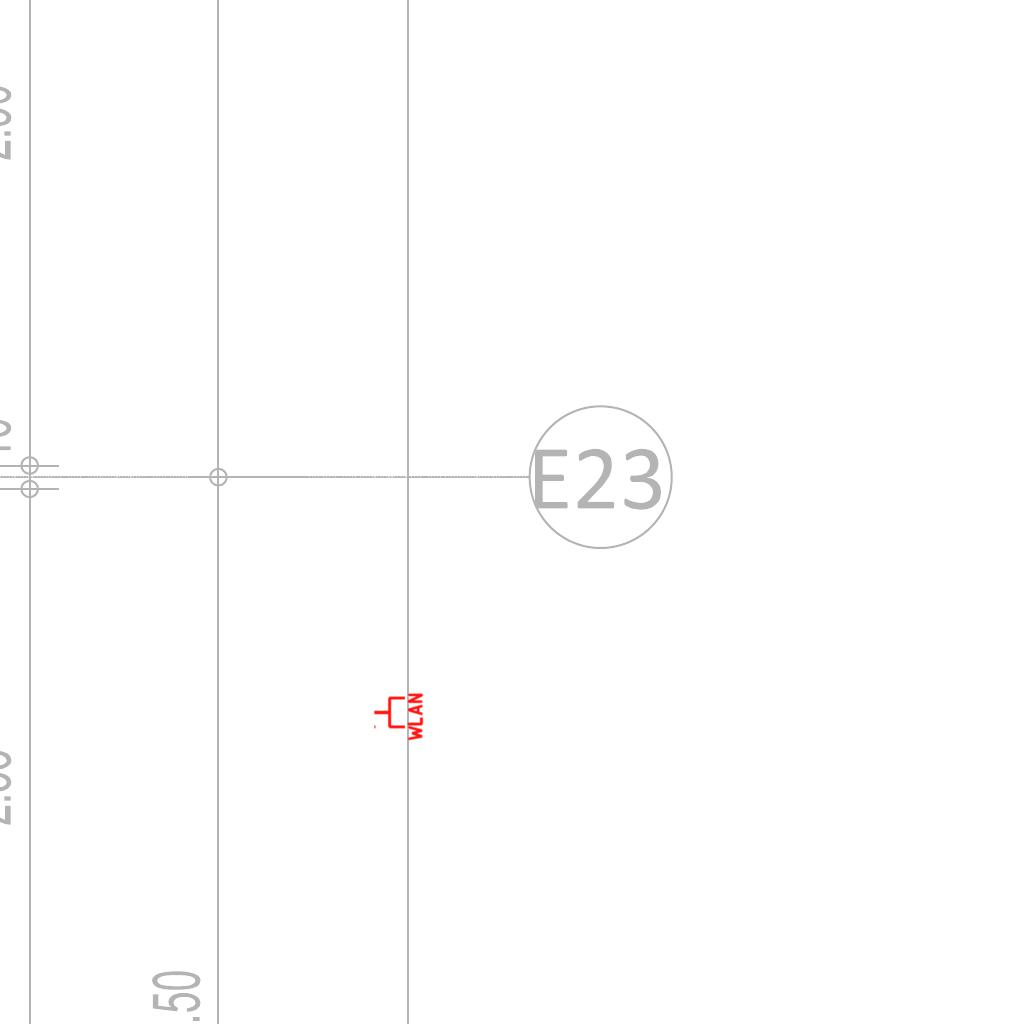WLAN: (372, 691, 424, 743)
